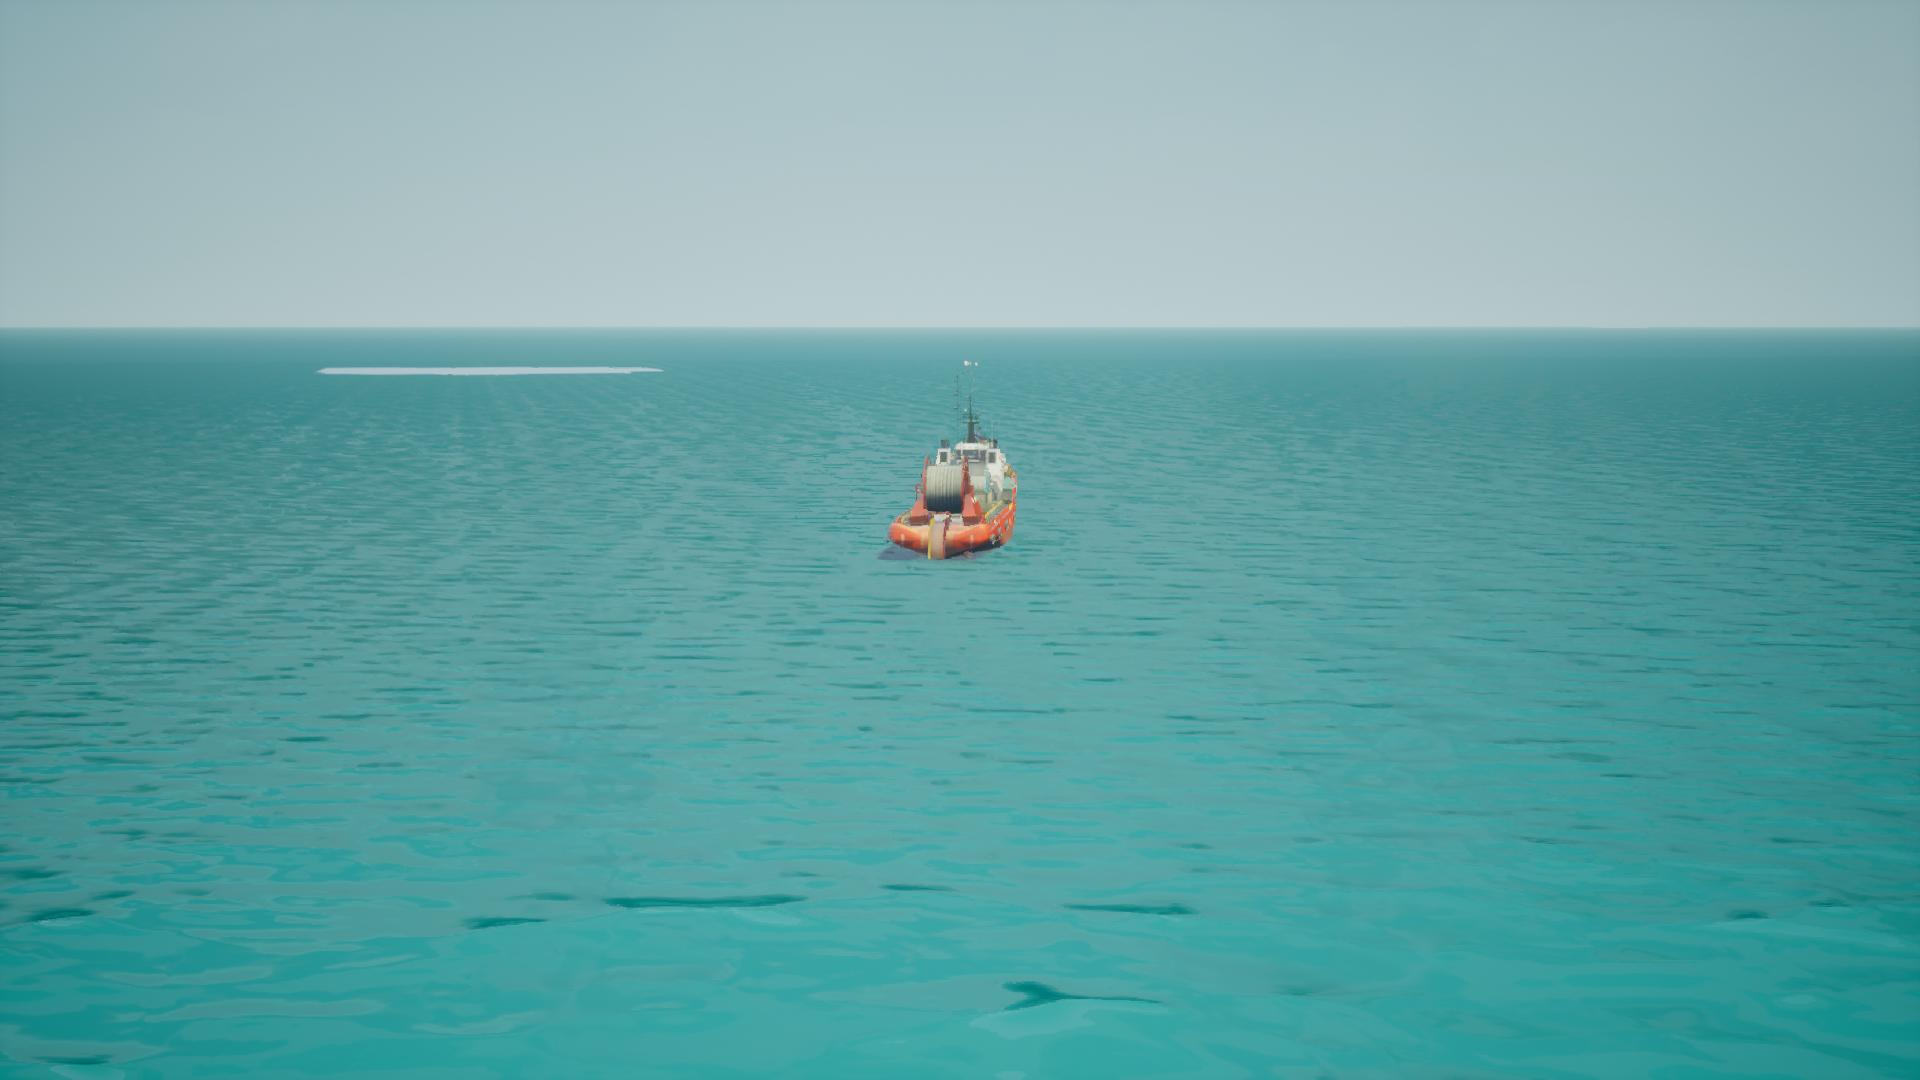Tug Boat: (889, 361, 1022, 562)
